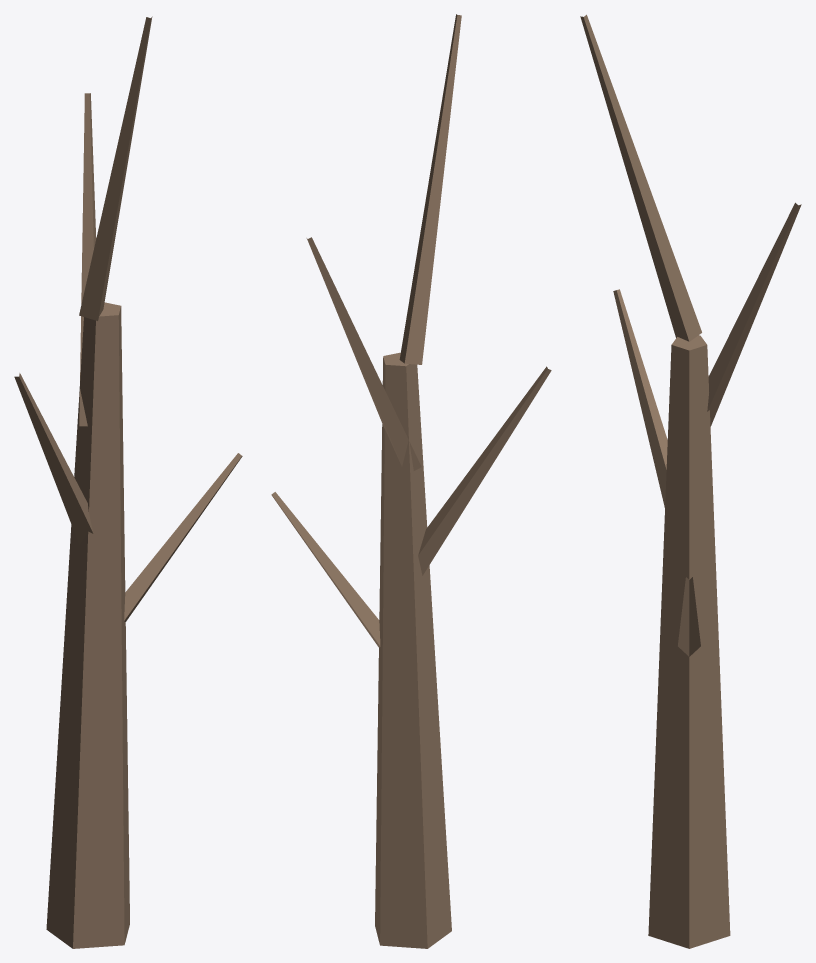
The picture shows the model from 3 angles, left to right: view 1: azimuth 30°, elevation 25°; view 2: azimuth 150°, elevation 25°; view 3: azimuth 270°, elevation 25°; orthographic projection. The views are drawn at different scales.
Visible parts, largest first — view 1: Body; view 2: Body; view 3: Body.
Part boxes in pixels (x1,y1,x2,y2): Body: [14, 16, 242, 948]; Body: [271, 14, 551, 948]; Body: [580, 14, 801, 948].
Size of the model in its own units: 1.64 by 5.64 by 1.23.
